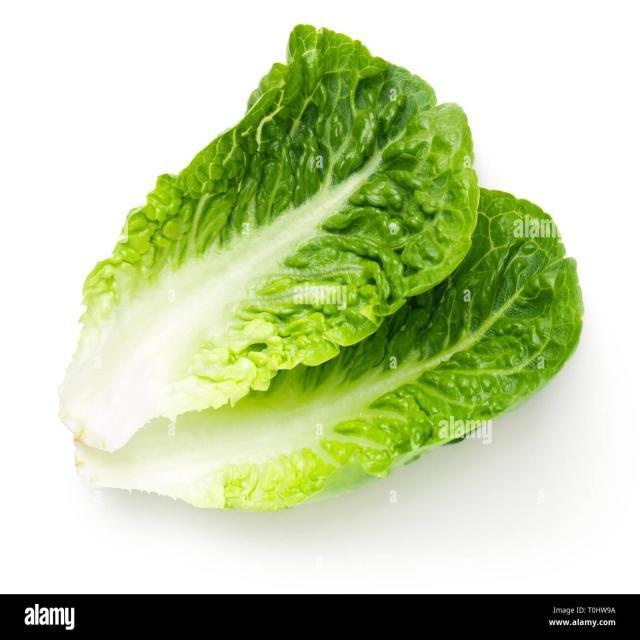Lettuce-Ready-to-Harvest: (62, 28, 479, 451), (76, 190, 582, 509)
